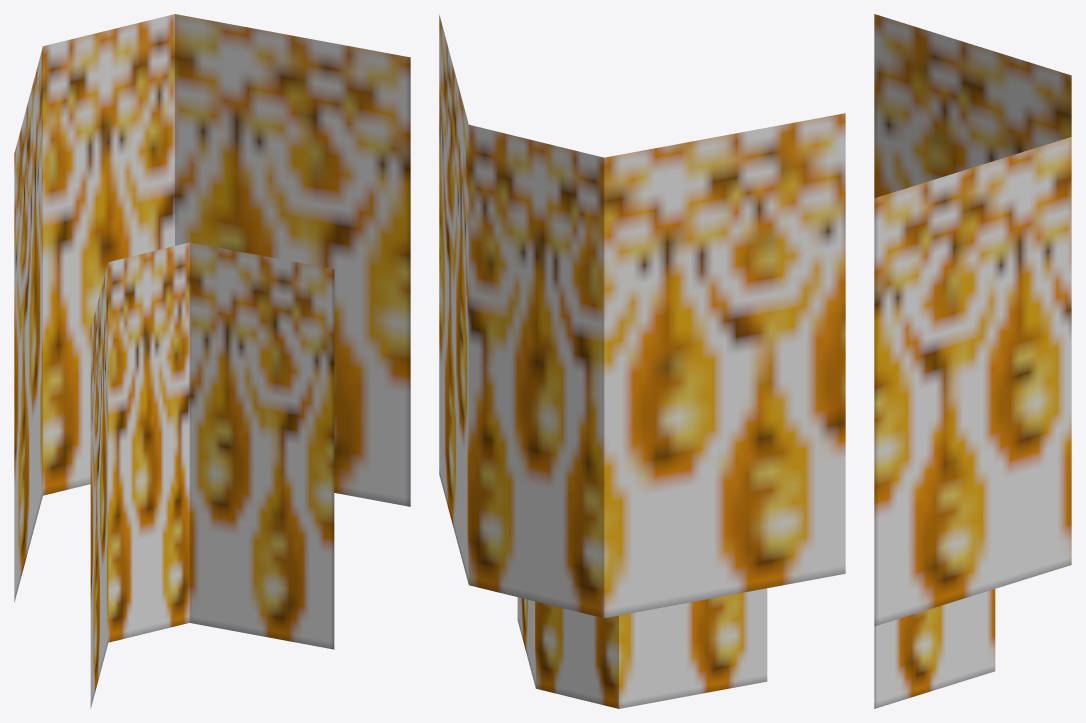
File: WandLeuchte_231.glb
3 views of the same model, side by side, from view 1: azimuth 30°, elevation 25°; view 2: azimuth 150°, elevation 25°; view 3: azimuth 270°, elevation 25° (orthographic). The views are drawn at different scales.
Parts seen in each view (by area): view 1: pPlaneShape93, pPlaneShape94; view 2: pPlaneShape93, pPlaneShape94; view 3: pPlaneShape93, pPlaneShape94.
Boxes of the visible parts, x1,y1,x2,y2 form: pPlaneShape93: [14, 14, 410, 602]; pPlaneShape94: [90, 242, 334, 708]; pPlaneShape93: [439, 15, 845, 618]; pPlaneShape94: [517, 588, 767, 708]; pPlaneShape93: [874, 14, 1071, 626]; pPlaneShape94: [874, 589, 995, 708].
Size of the model in its own units: 0.0759 by 0.1049 by 0.0343.
Materials: 2 (2 with a texture image).
